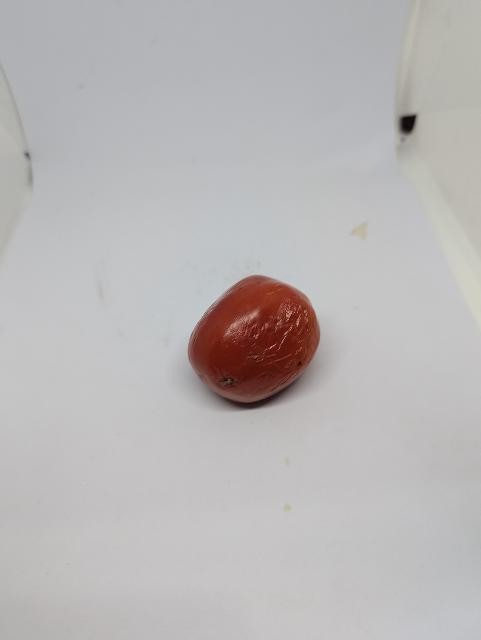defect: (186, 271, 324, 406)
